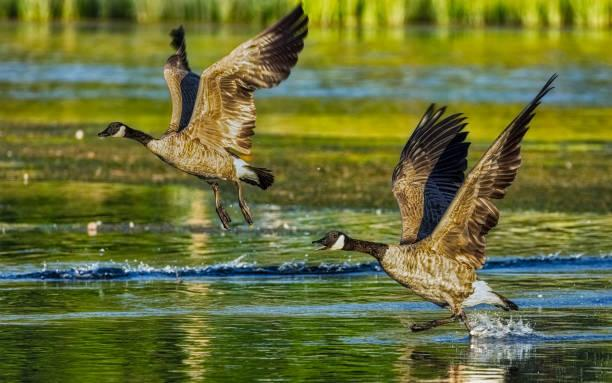Canadian-Goose: (310, 80, 554, 339), (97, 7, 306, 225)
